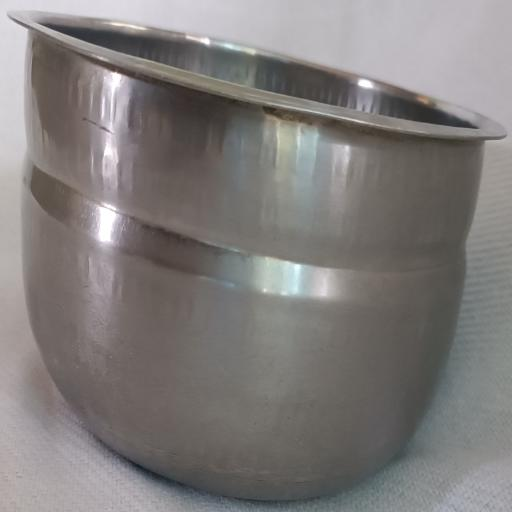vessel: (10, 12, 505, 499)
